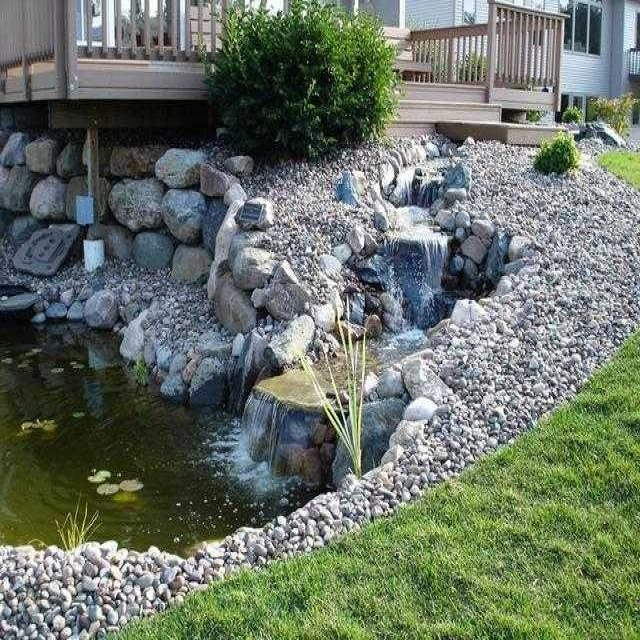Ponds: (1, 239, 412, 629)
